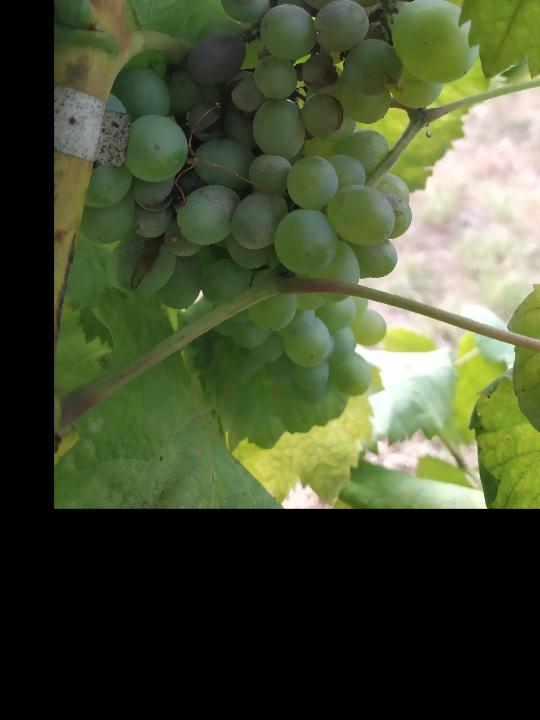grape: (85, 0, 483, 279)
